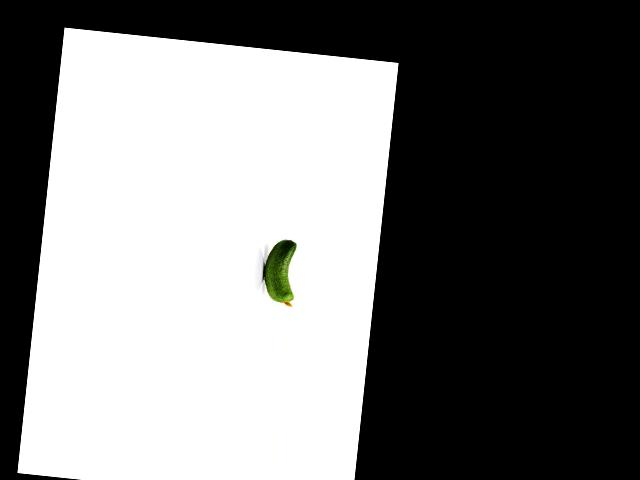cucumber: (260, 236, 299, 307)
